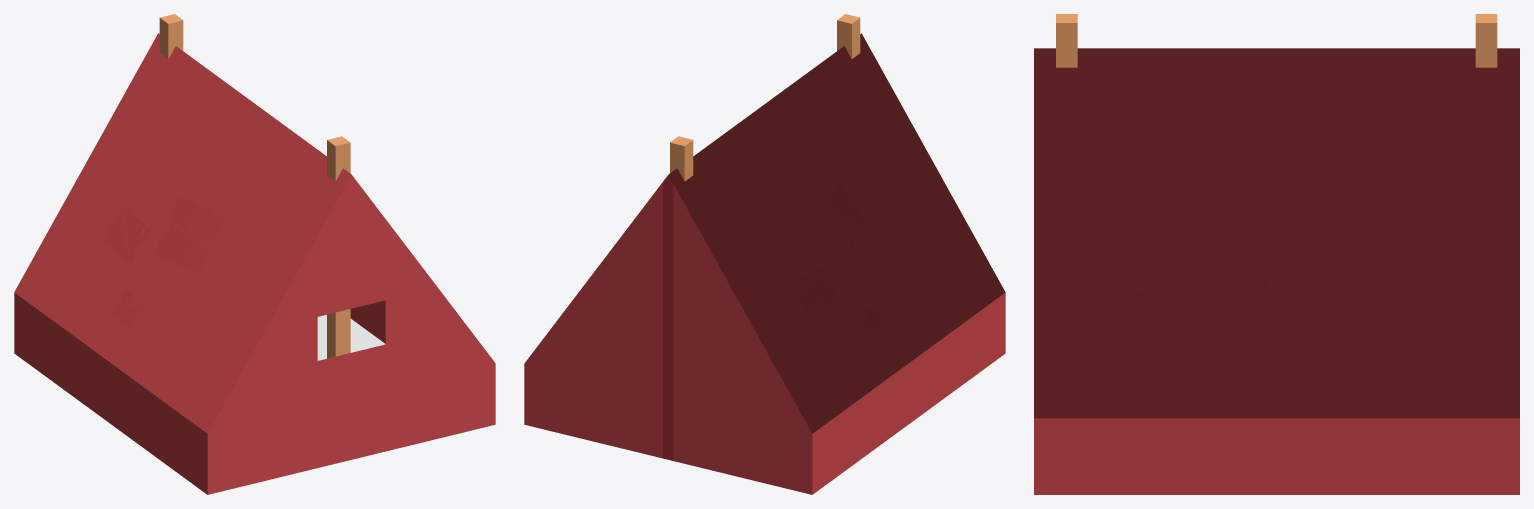
File: tent_smallClosed.obj
3 views of the same model, side by side, from view 1: azimuth 30°, elevation 25°; view 2: azimuth 150°, elevation 25°; view 3: azimuth 270°, elevation 25° (orthographic). The views are drawn at different scales.
Visible parts, largest first — view 1: tent_smallClosed; view 2: tent_smallClosed; view 3: tent_smallClosed.
Part boxes in pixels (x1,y1,x2,y2): tent_smallClosed: (14, 14, 495, 494); tent_smallClosed: (524, 14, 1005, 494); tent_smallClosed: (1034, 14, 1519, 494).
Size of the model in its own units: 5.48 by 5.61 by 6.36.
